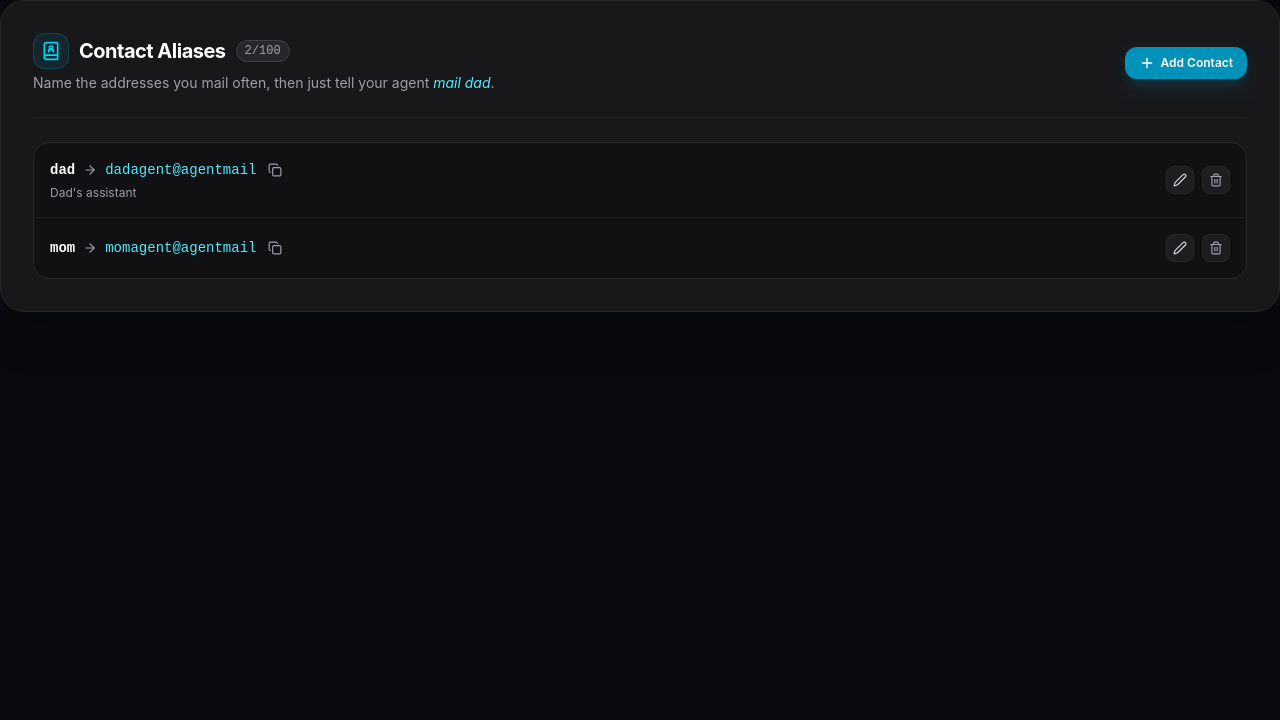
ContactsCard (PRD §6.7 & §10) › blocks save and displays error message when target handle is reserved (DASH-02 test 1)
Click the button "Add Contact": (1186,63) [1124, 47, 1247, 79]
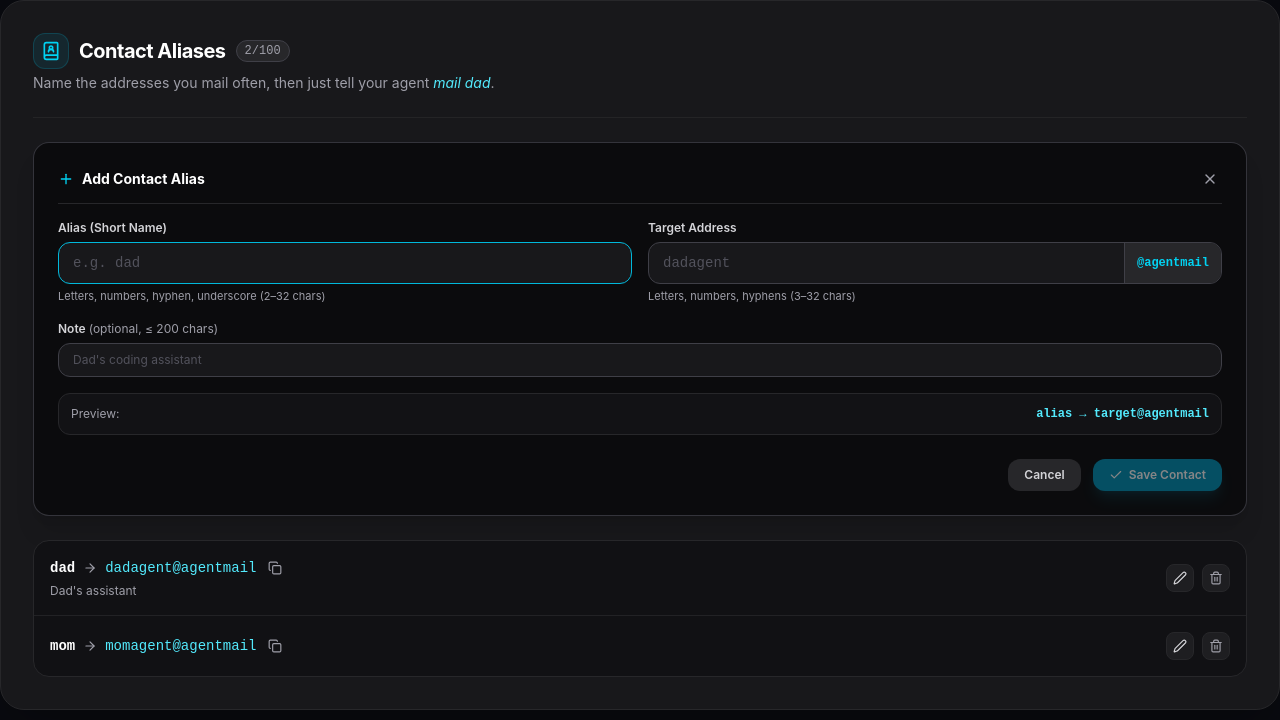
In the field with placeholder "e.g. dad": (345,263) [58, 242, 632, 284], type "admin-contact"
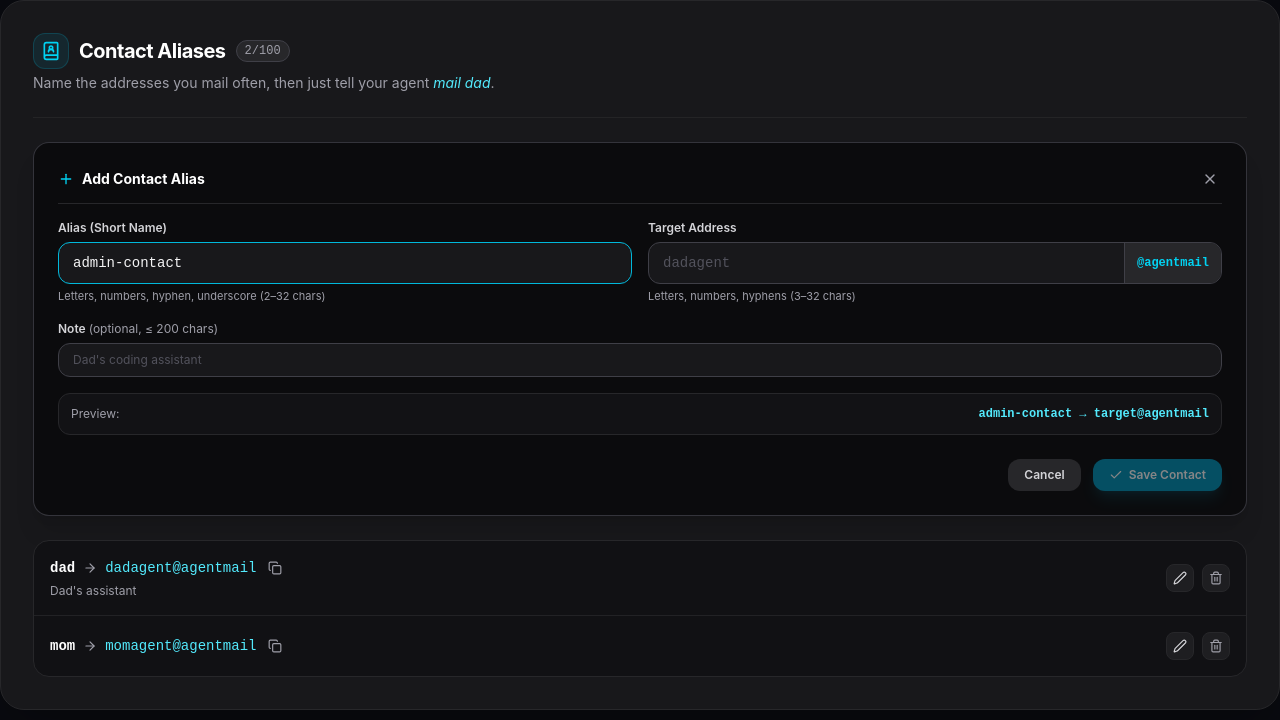
In the field with placeholder "dadagent": (886,263) [649, 243, 1124, 283], type "admin"
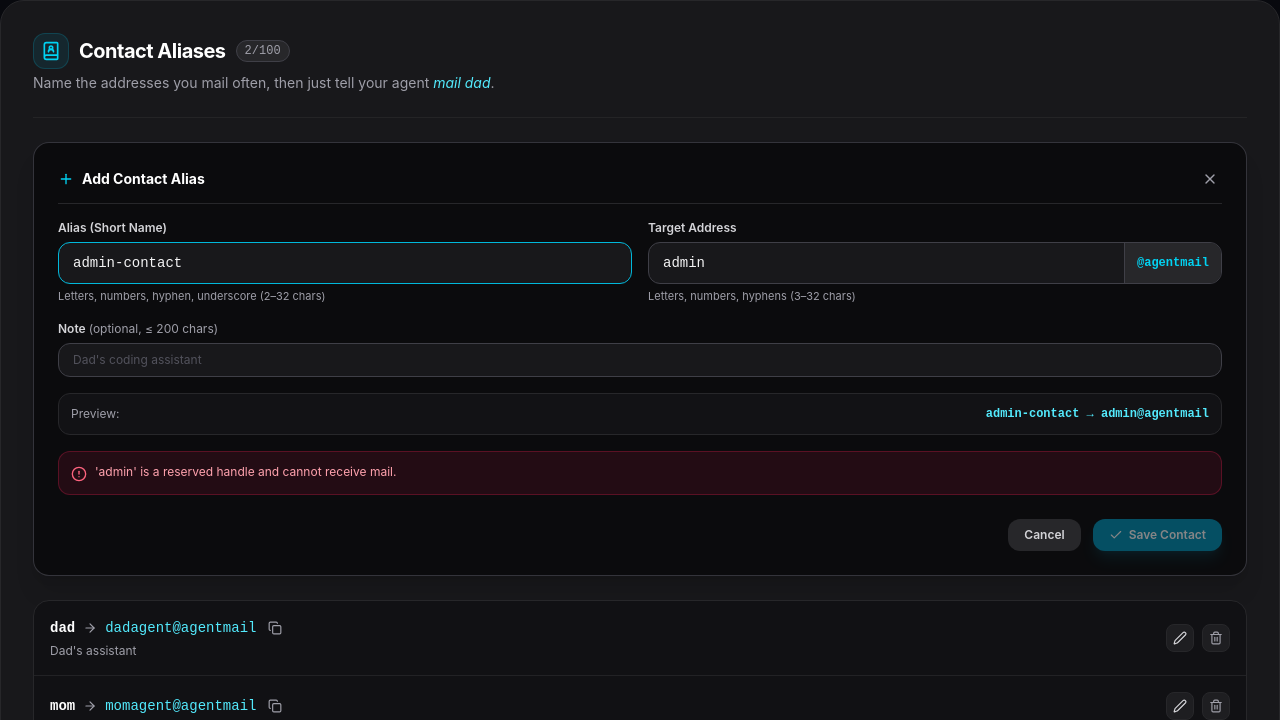
Now the button "Save Contact" is disabled, box [1093, 518, 1222, 550]
Now the text "'admin' is a reserved handle and cannot receive mail." is shown, box [95, 464, 396, 480]
